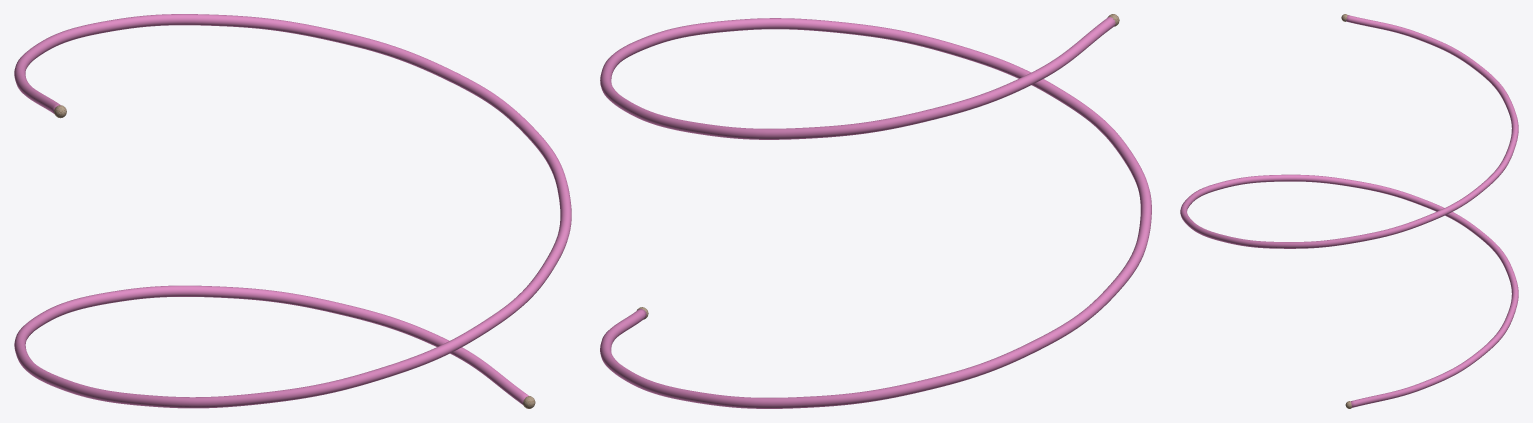
The model's file is Rail_Spiral.glb.
3 views of the same model, side by side, from view 1: azimuth 30°, elevation 25°; view 2: azimuth 150°, elevation 25°; view 3: azimuth 270°, elevation 25° (orthographic). The views are drawn at different scales.
Parts seen in each view (by area): view 1: Rail_Spiral_Rail; view 2: Rail_Spiral_Rail; view 3: Rail_Spiral_Rail.
Boxes of the visible parts, bbox=[...] form: Rail_Spiral_Rail: bbox=[14, 14, 571, 408]; Rail_Spiral_Rail: bbox=[600, 17, 1151, 408]; Rail_Spiral_Rail: bbox=[1180, 15, 1518, 407].
Size of the model in its own units: 4.91 by 4.08 by 4.92.
Materials: 2 (1 with a texture image).
